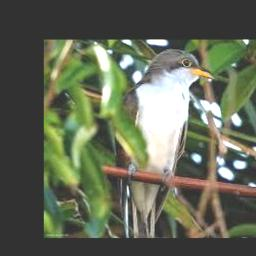Cuckoo: (116, 50, 214, 238)
